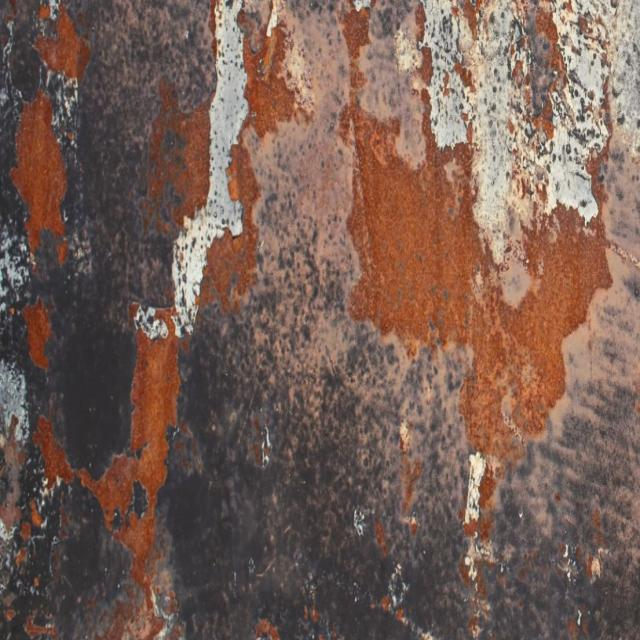Uniform Corrosion: (340, 0, 634, 595), (35, 318, 180, 582), (140, 80, 209, 234), (201, 139, 260, 312), (10, 90, 65, 251), (244, 24, 297, 137), (35, 8, 89, 79), (96, 590, 163, 639), (340, 7, 370, 108), (33, 415, 74, 484), (22, 298, 52, 369)
